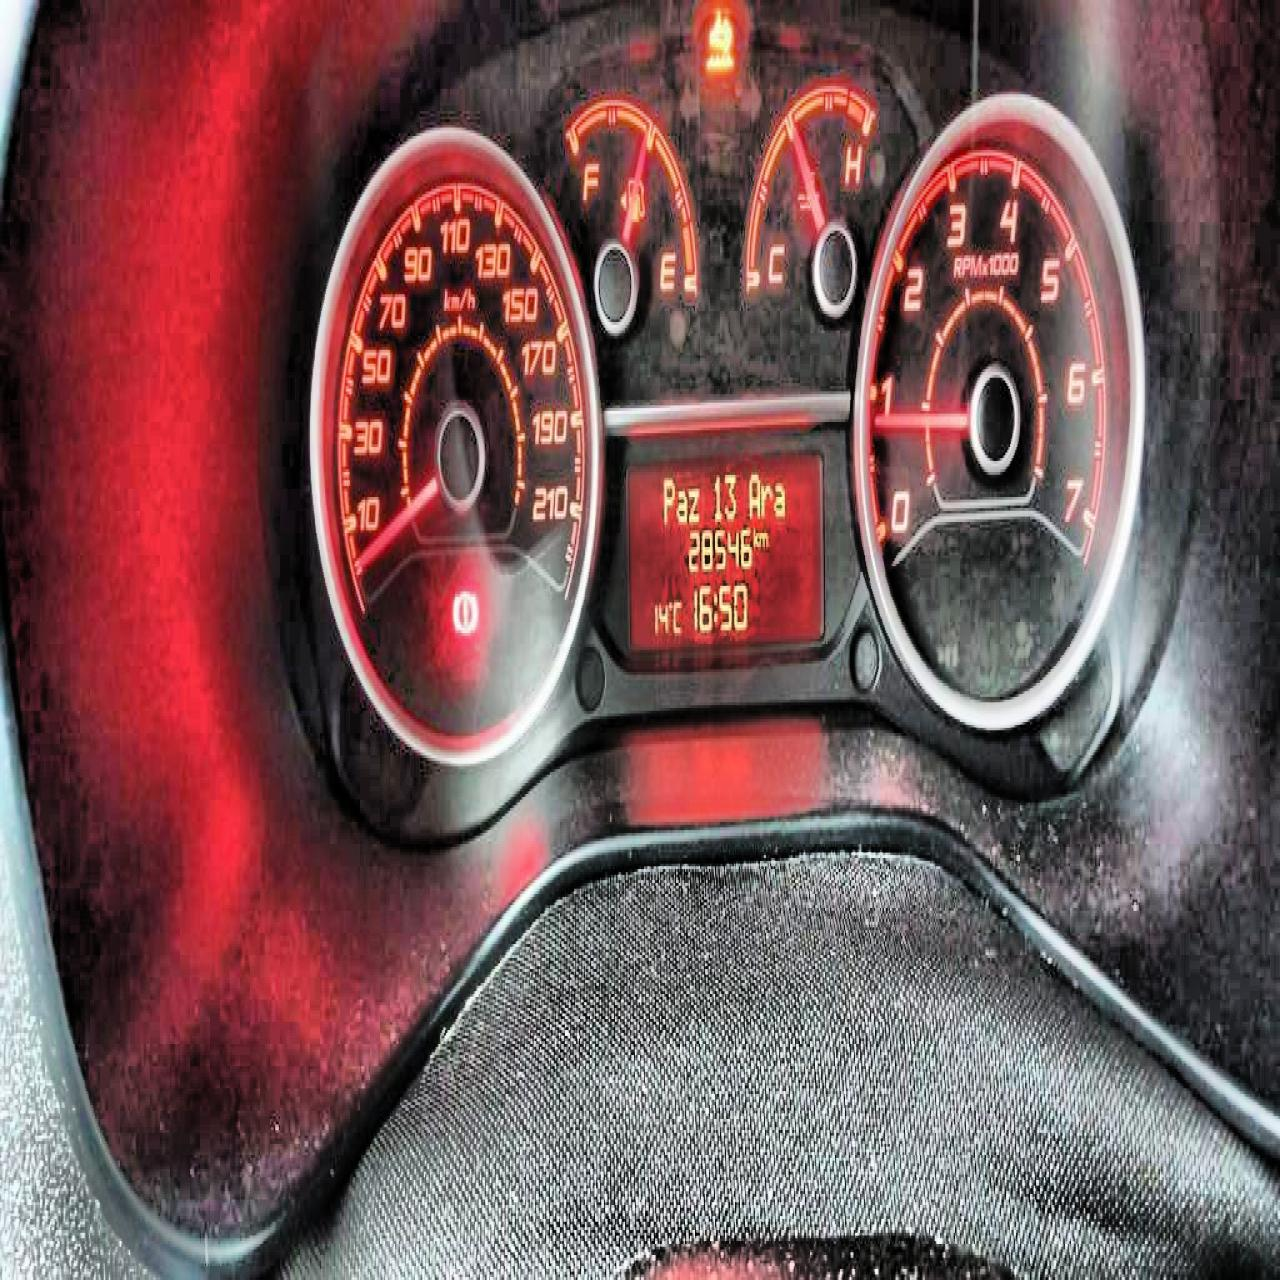0: (733, 578, 748, 627)
1: (712, 467, 721, 519), (693, 580, 697, 633), (653, 600, 658, 636)
2: (688, 527, 699, 572)
3: (722, 467, 736, 519)
4: (727, 525, 738, 566), (658, 597, 667, 633)
5: (717, 580, 731, 631), (713, 525, 726, 570)
6: (697, 578, 712, 633), (738, 525, 751, 566)
8: (700, 525, 713, 570)
X: (661, 472, 674, 525), (760, 477, 772, 517), (748, 470, 758, 517), (772, 481, 785, 517), (688, 483, 700, 522), (672, 594, 682, 633), (675, 486, 686, 522), (757, 527, 768, 547), (713, 588, 717, 625), (753, 522, 757, 547)
odometer: (625, 447, 826, 661)
